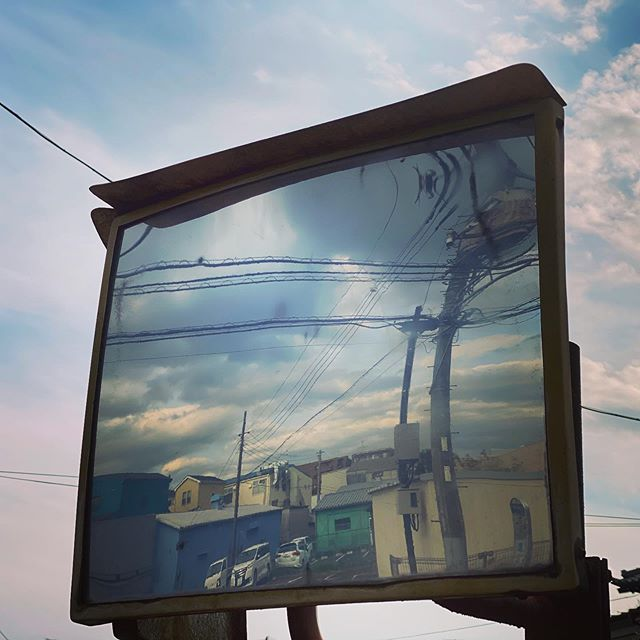building: (385, 462, 569, 584), (91, 507, 294, 598), (285, 485, 377, 565)
power pole: (389, 191, 522, 573)
sky: (1, 1, 640, 437)
